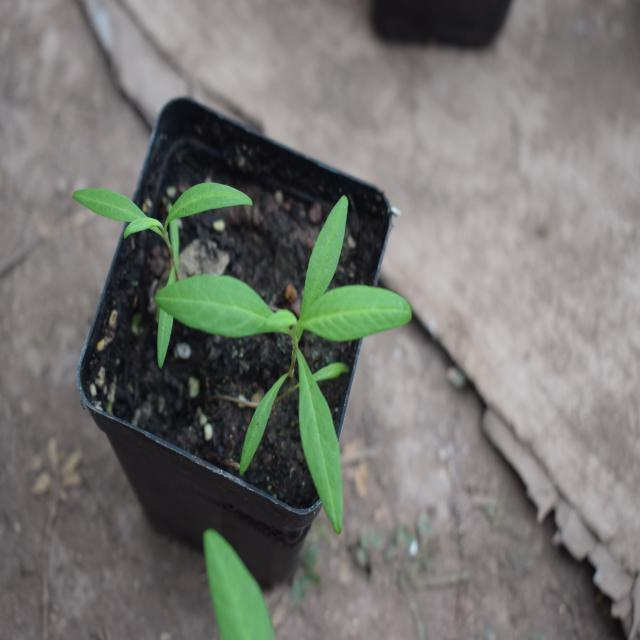white_smart_weed: (173, 198, 462, 518)
